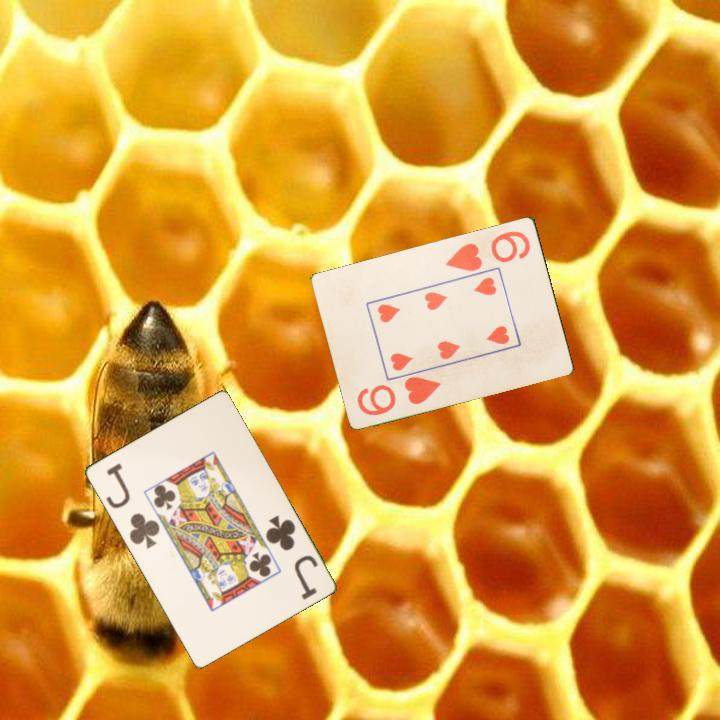6h: (442, 227, 533, 274), (354, 373, 444, 418)
Jc: (102, 459, 162, 552), (261, 511, 320, 603)
